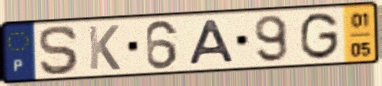6: (144, 18, 180, 71)
9: (253, 14, 291, 64)
A: (187, 18, 238, 68)
G: (298, 11, 341, 62)
K: (86, 24, 122, 72)
S: (37, 24, 83, 77)
